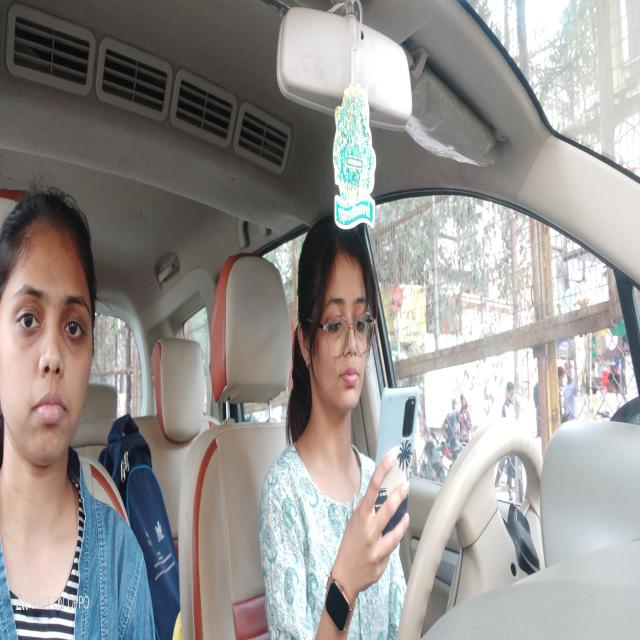mobile: (371, 380, 417, 537)
person: (0, 176, 102, 478), (298, 213, 372, 422)
